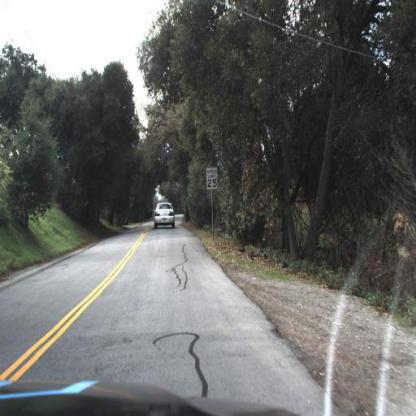car: (147, 194, 179, 233)
